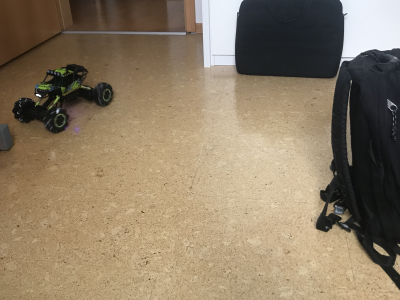remote control car: (10, 57, 116, 135)
